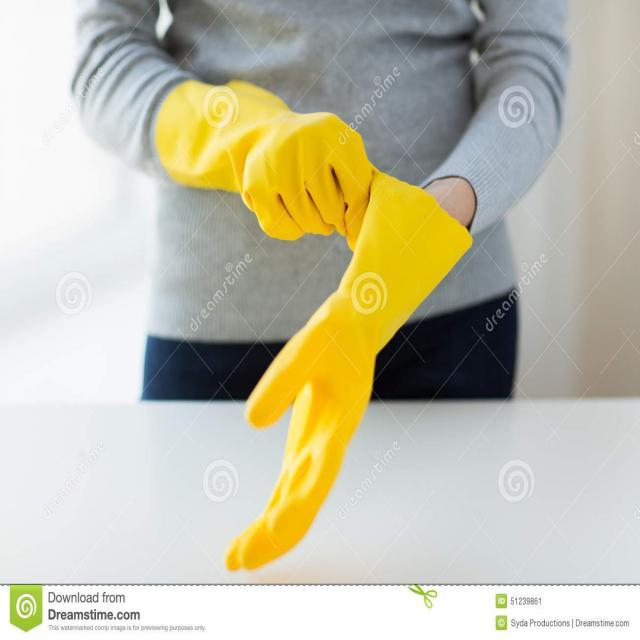Gloves: (230, 154, 399, 589), (157, 88, 365, 238)
